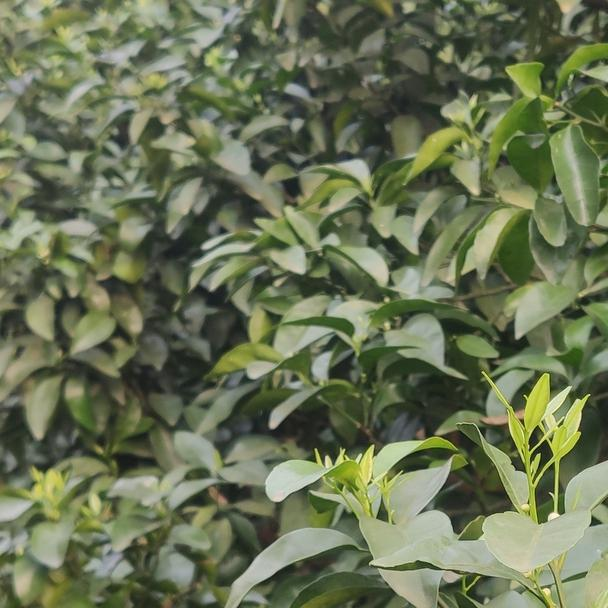shoot: (486, 370, 581, 511)
